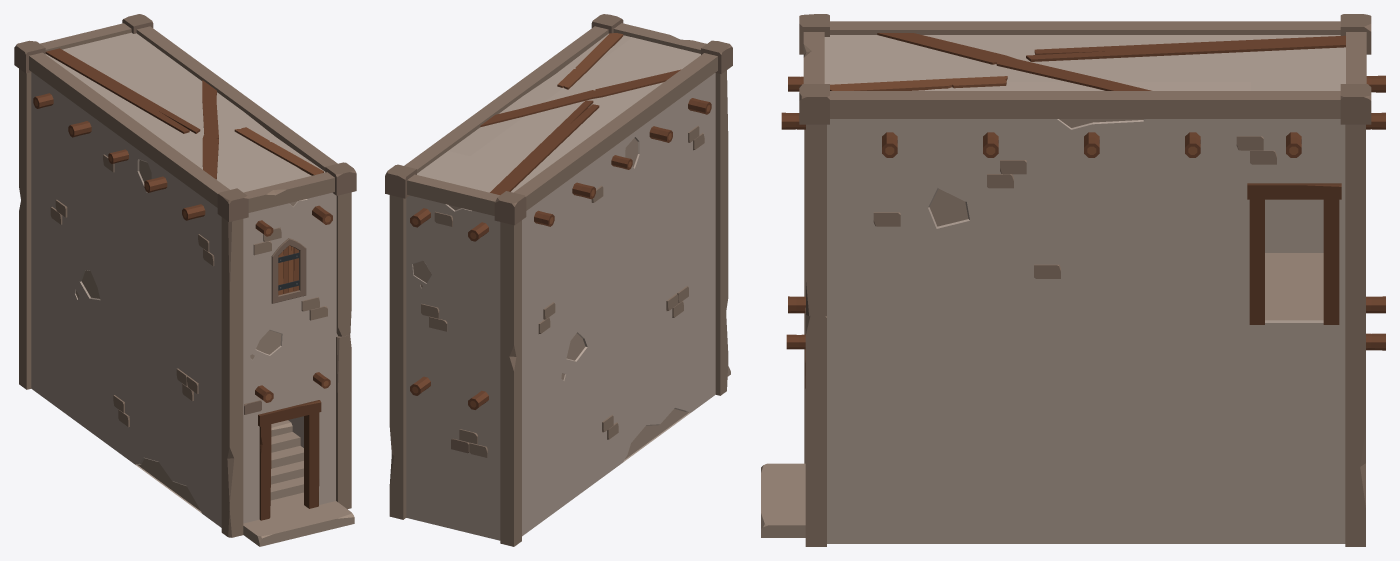
Rendered from House_06R.fbx.
3 views of the same model, side by side, from view 1: azimuth 30°, elevation 25°; view 2: azimuth 150°, elevation 25°; view 3: azimuth 270°, elevation 25° (orthographic). The views are drawn at different scales.
Visible parts, largest first — view 1: House_06R; view 2: House_06R; view 3: House_06R.
Boxes of the visible parts, x1,y1,x2,y2 form: House_06R: (14, 14, 356, 546); House_06R: (385, 14, 732, 546); House_06R: (761, 14, 1385, 546).
Size of the model in its own units: 326 by 716 by 898.
